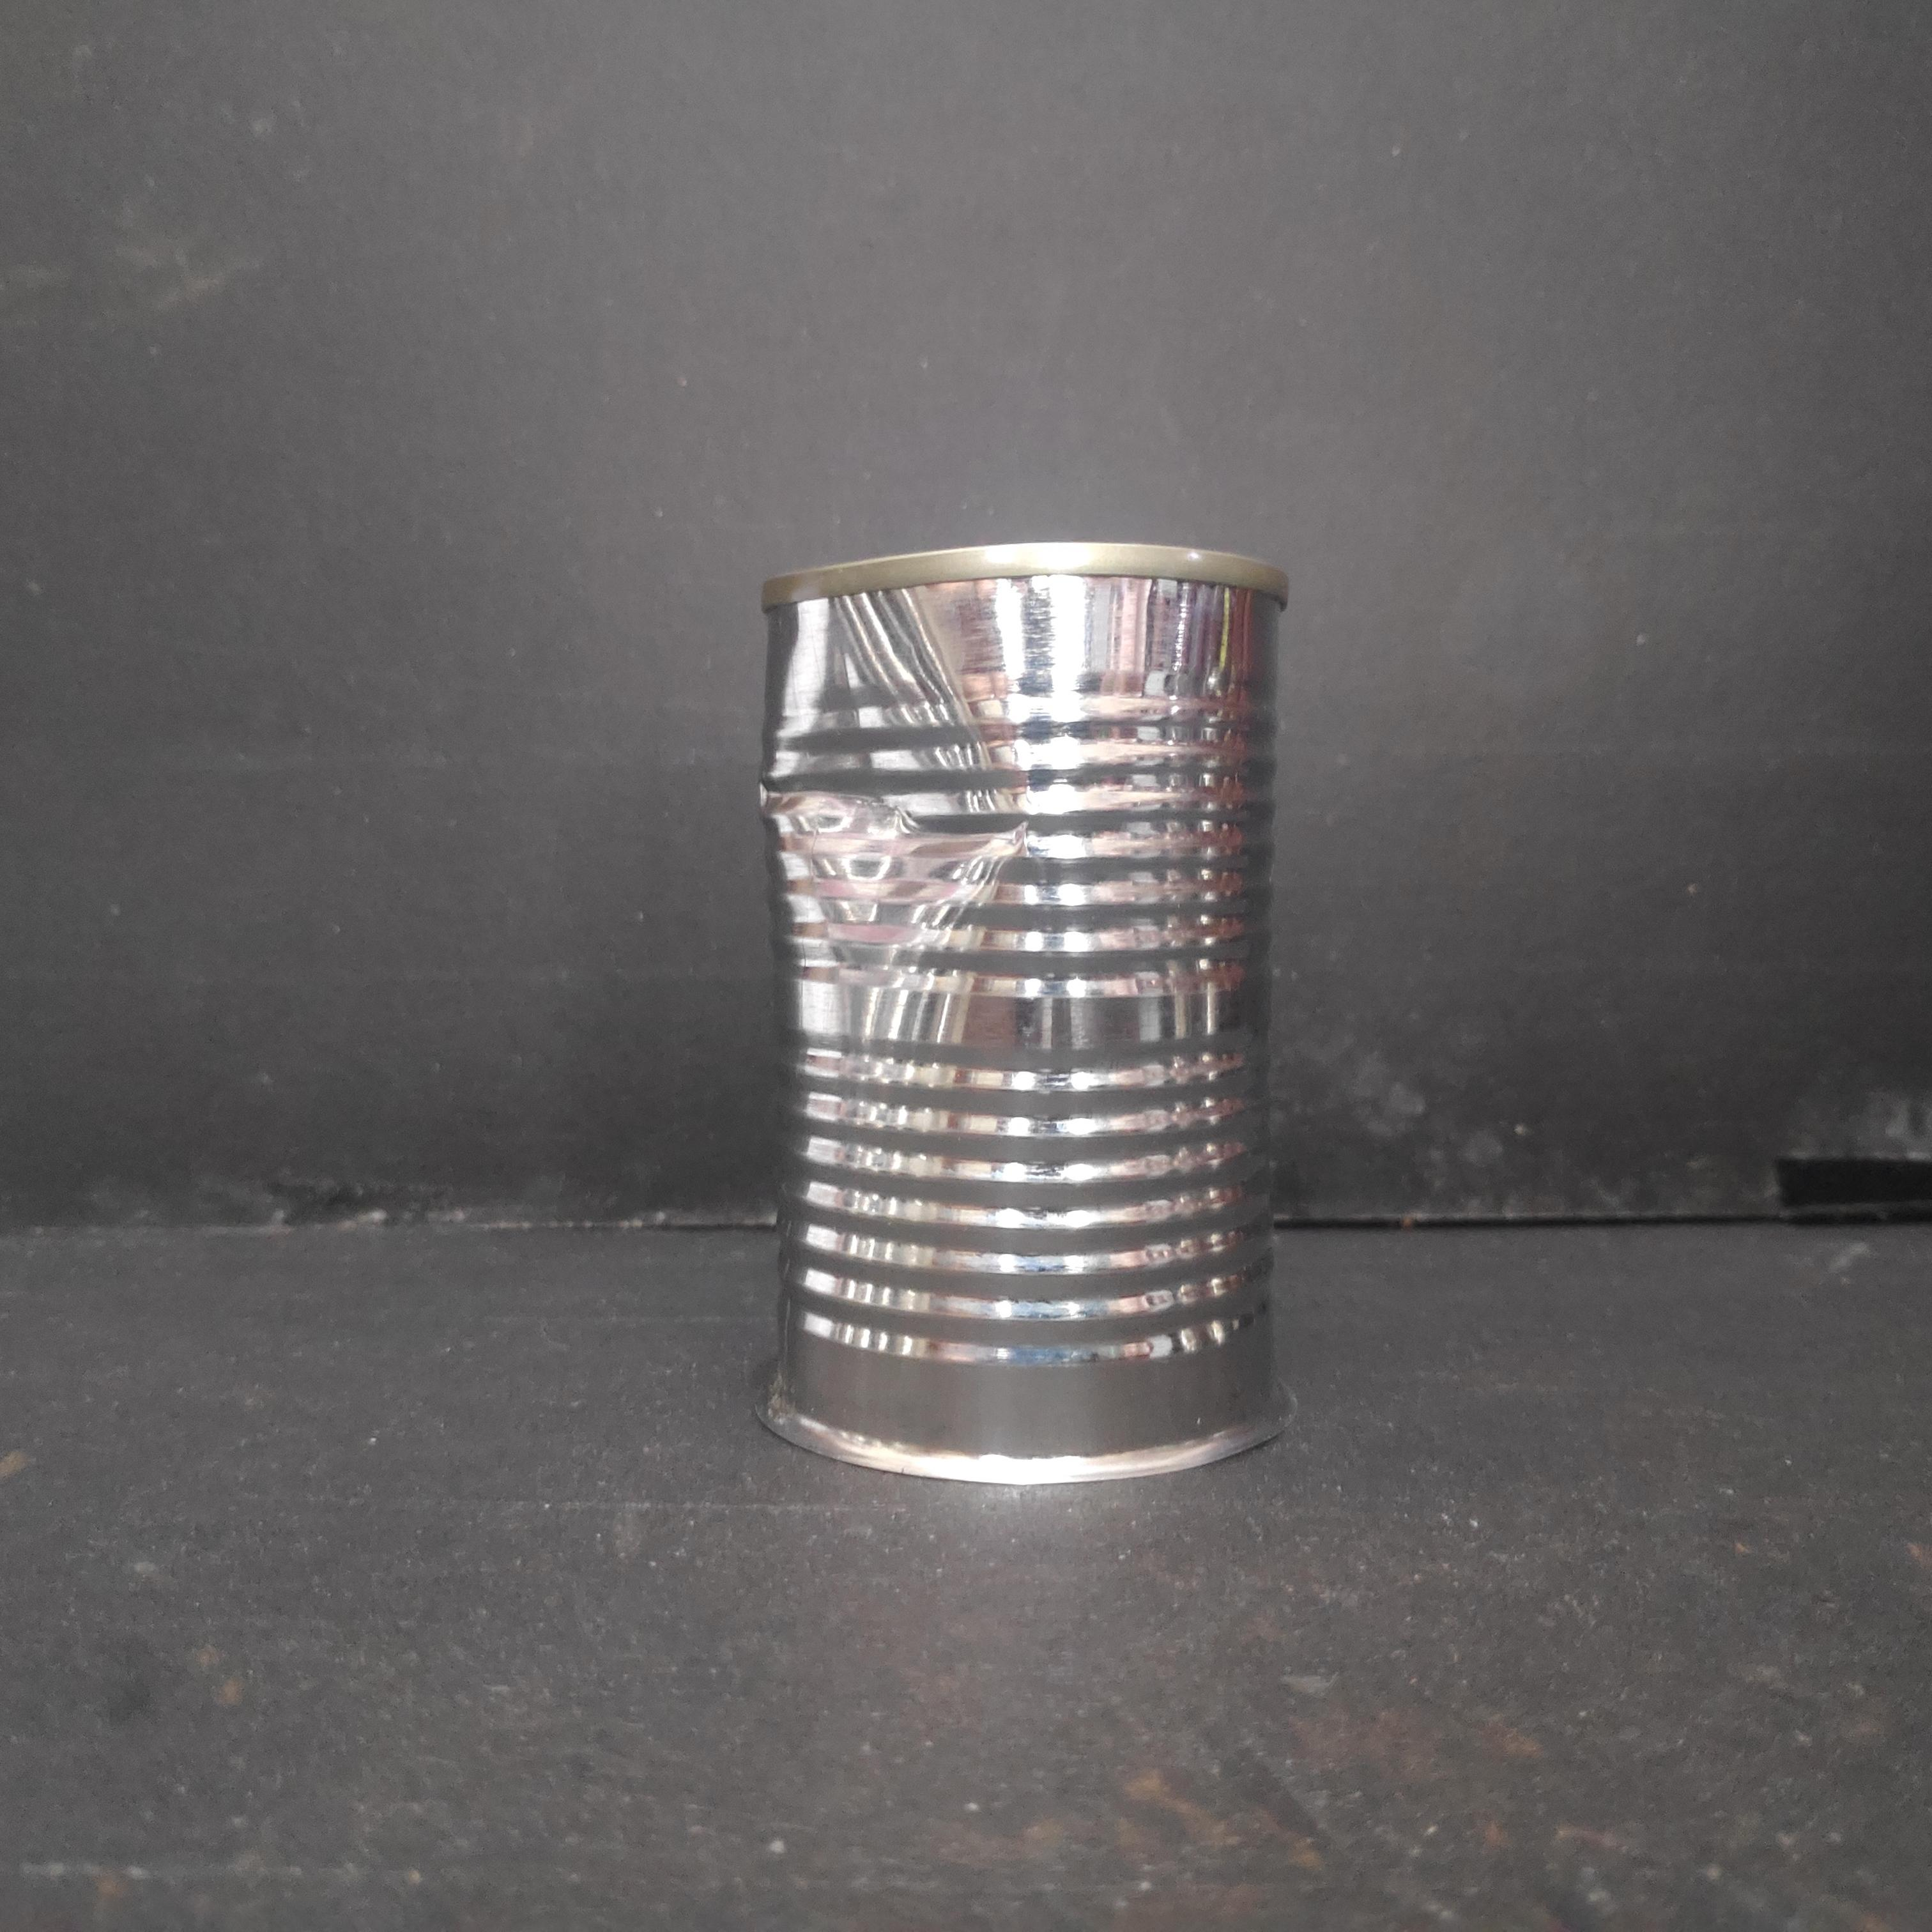Minor Defect: (748, 531, 1293, 1497)
